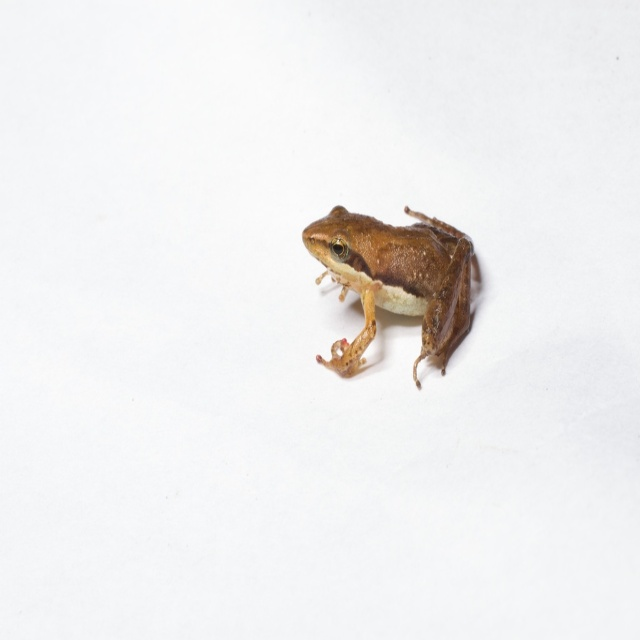Frog: (302, 199, 483, 381)
